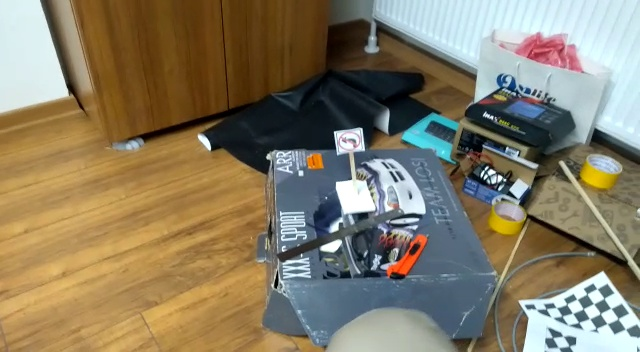sola_donulmez: (337, 128, 362, 154)
